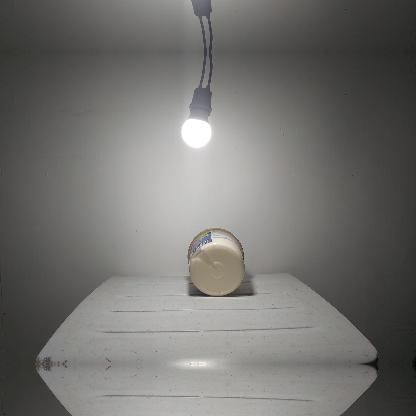Lady-s-Choice: (187, 226, 245, 296)
